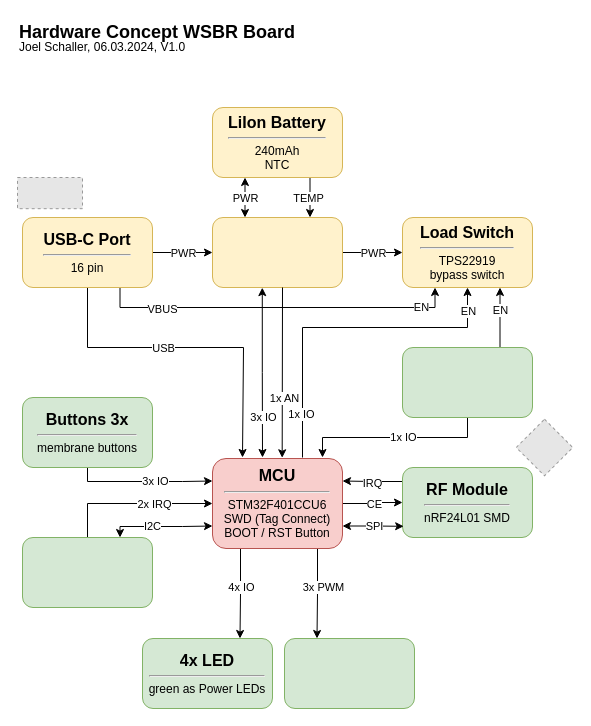
The diagram is 591 pixels wide and 726 high, and some of its shapes have lost their labels. Grey dashed boxes stand in for pictures. The centre of each missing label's shape, as x and y in pixels:
"Accelerometer LIS2HH12" goes at [87,572].
"BMS STNS01PUR" goes at [277,252].
"Power Button SPST to BAT" goes at [467,382].
"RGB LED Status LED" goes at [349,673].
